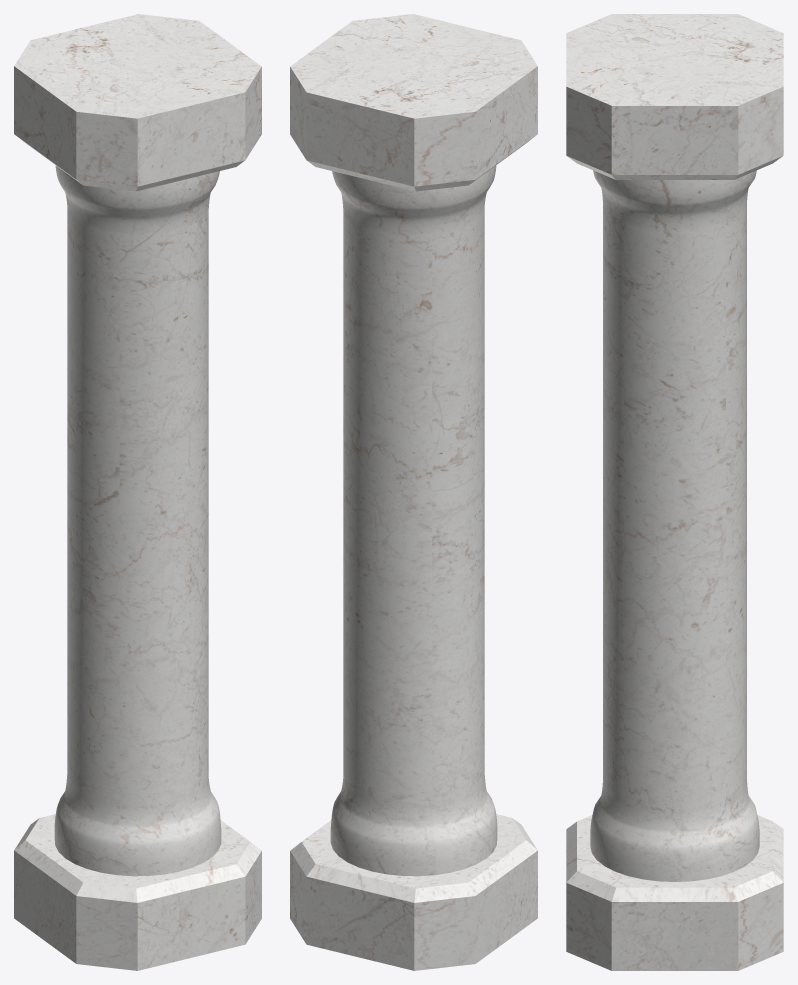
File: column1.glb
3 views of the same model, side by side, from view 1: azimuth 30°, elevation 25°; view 2: azimuth 150°, elevation 25°; view 3: azimuth 270°, elevation 25° (orthographic).
Parts seen in each view (by area): view 1: Cylinder.002; view 2: Cylinder.002; view 3: Cylinder.002.
Part boxes in pixels (bbox=[...]): Cylinder.002: bbox=[14, 14, 261, 970]; Cylinder.002: bbox=[290, 14, 537, 970]; Cylinder.002: bbox=[566, 14, 783, 970].
Size of the model in its own units: 0.5 by 2.2 by 0.5.
1 material, 1 textured.
